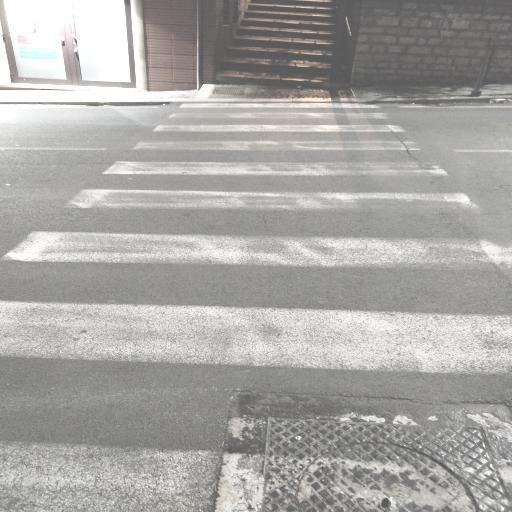crosswalk: (56, 157, 484, 221), (147, 111, 410, 137)
